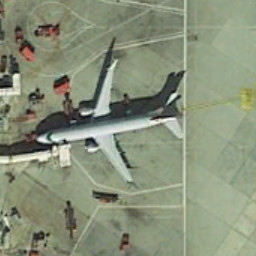Airplane: (29, 52, 194, 198)
